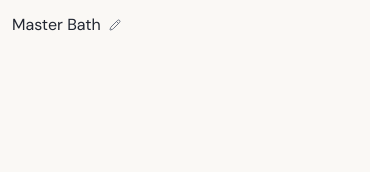
Test: PlanNameEditor UI › G. when onSave returns false, error is shown and editor stays open
Step 1. Click the button named "edit project name" → (115, 25), box [105,15,125,35]
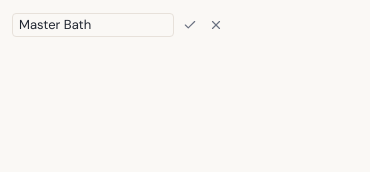
Step 2. Replace the text in the field named "edit project name" with "New Name" → (93, 25), box [12,13,174,37]
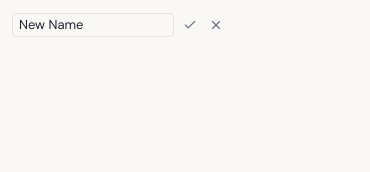
Step 3. Press Enter in the field named "edit project name", box [12,13,174,37]
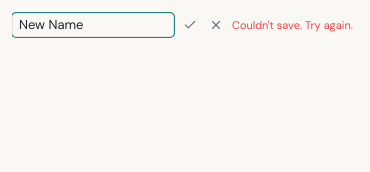
Result: the text "Couldn't save. Try again." is shown at [232,17,353,33]
